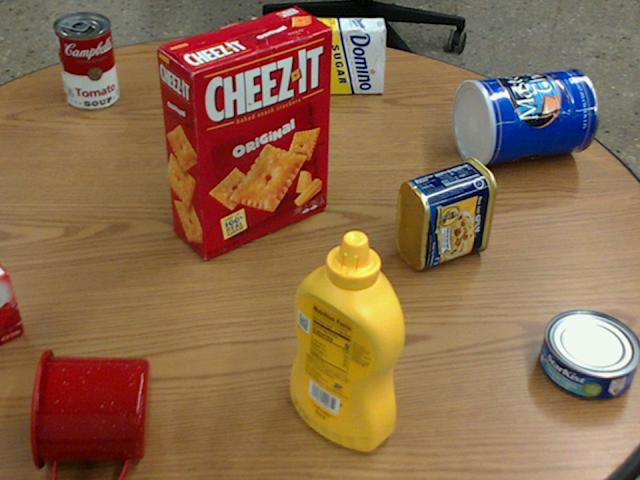cracker_box: (156, 7, 332, 259)
gelatin_box: (0, 264, 22, 342)
master_chef_can: (451, 68, 596, 166)
mug: (30, 348, 147, 479)
mustard_bottle: (290, 230, 403, 451)
potted_meat_can: (395, 156, 496, 269)
sugar_box: (251, 17, 387, 92)
tomato_soup_can: (54, 12, 118, 109)
tuna_fish_can: (539, 308, 639, 398)
